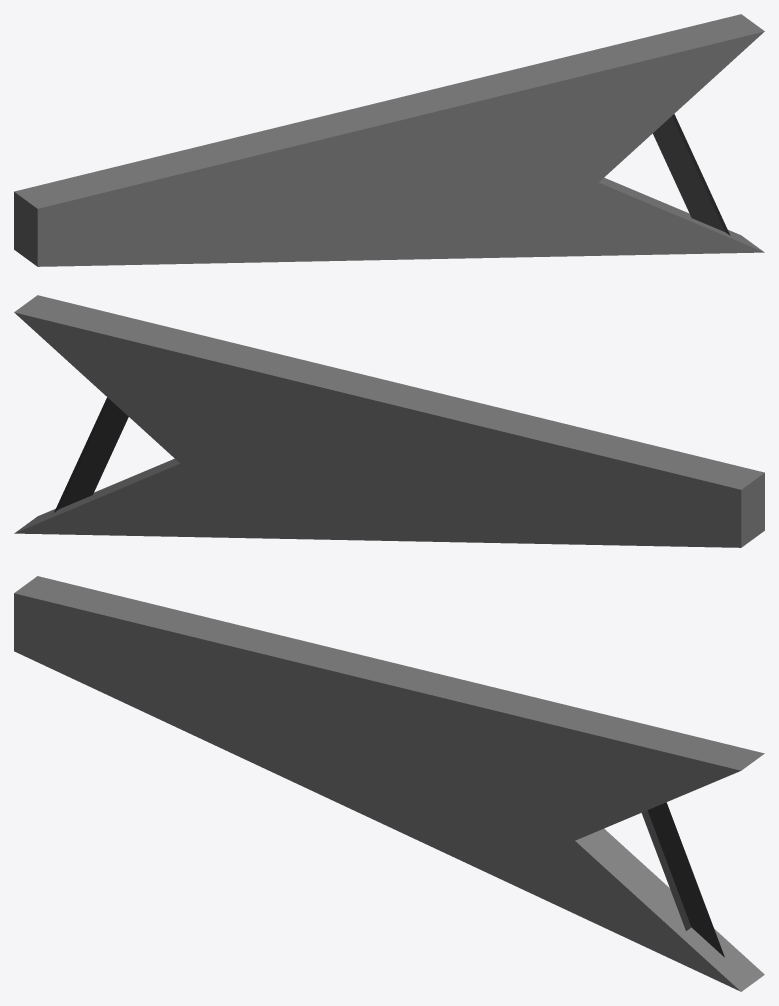
File: Gun.obj
3 renders of one model, top to bottom at view 1: azimuth 30°, elevation 25°; view 2: azimuth 150°, elevation 25°; view 3: azimuth 330°, elevation 25°, orthographic.
Visible parts, largest first — view 1: Gun; view 2: Gun; view 3: Gun.
Part boxes in pixels (x1=…): Gun: x1=14, y1=14, x2=764, y2=266; Gun: x1=14, y1=295, x2=764, y2=547; Gun: x1=14, y1=576, x2=764, y2=991.
Bounding box in the file's own units: 1.72 × 0.5008 × 0.0969.
Materials: 1 (1 with a texture image).
